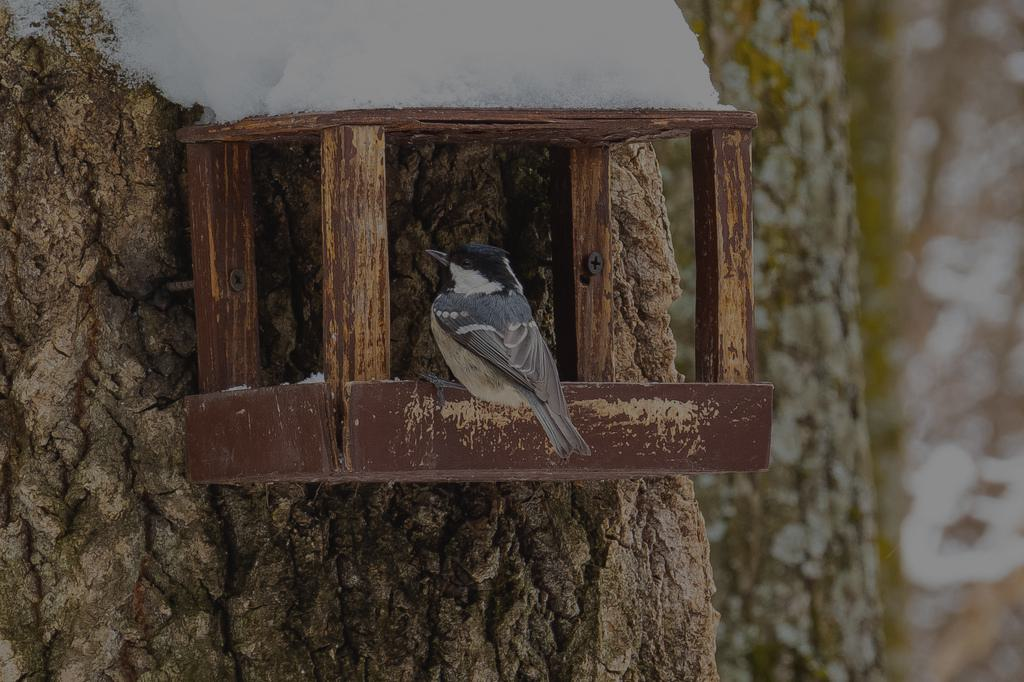PeriparusAter: (414, 241, 592, 458)
